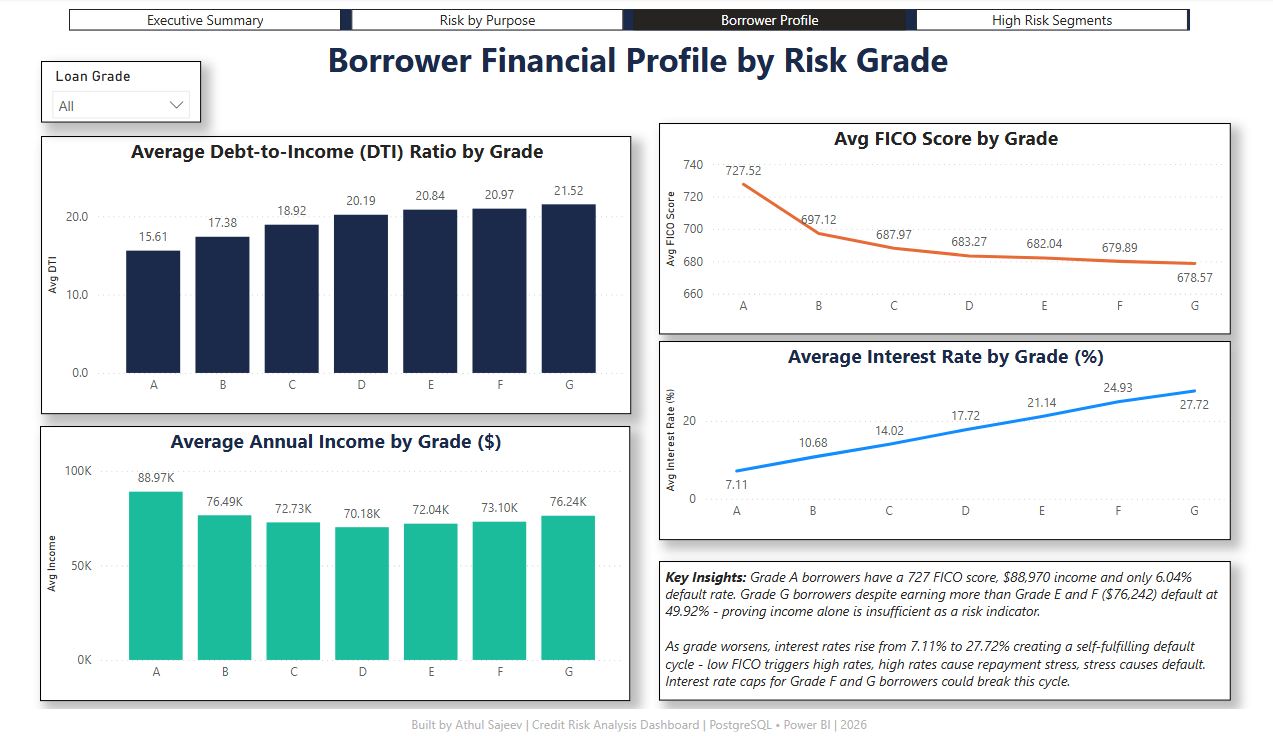

The dashboard page shown, as its layout file describes it:
{"tool":"powerbi","page":{"name":"Borrower Profile","canvas":[1280,720],"ordinal":2},"visuals":[{"type":"textbox","box":[331.7,32.1,616.7,69.1],"z":0},{"type":"clusteredColumnChart","title":"Average Debt-to-Income (DTI) Ratio by Grade","fields":{"Category":["query4_borrower_profile.grade"],"Y":["Sum(query4_borrower_profile.avg_dti)"]},"box":[57.5,134.4,574.7,270.8],"z":1000},{"type":"clusteredColumnChart","title":"Average Annual Income by Grade ($)","fields":{"Category":["query4_borrower_profile.grade"],"Y":["Sum(query4_borrower_profile.avg_income)"]},"box":[56.5,416.9,574.7,267.9],"z":2000},{"type":"lineChart","title":"Avg FICO Score by  Grade","fields":{"Category":["query4_borrower_profile.grade"],"Y":["Sum(query4_borrower_profile.avg_fico_score)"]},"box":[659.5,121.6,557.3,206.2],"z":3000},{"type":"lineChart","title":"Average Interest Rate by Grade (%)","fields":{"Category":["query4_borrower_profile.grade"],"Y":["Sum(query4_borrower_profile.avg_interest_rate)"]},"box":[659.5,334.6,557.3,193.6],"z":4000},{"type":"textbox","box":[659.5,548.4,557.2,136.4],"z":5000},{"type":"slicer","fields":{"Values":["query4_borrower_profile.grade"]},"box":[57.4,61.3,155.6,60.3],"z":6000},{"type":"pageNavigator","box":[84.6,10.7,1092.3,21.4],"z":7000},{"type":"textbox","box":[0,692.6,1280,27.3],"z":8000}]}

Visuals, with their boxes in screenshot pixels (x1, y1, x2, y2), scaled from the page's 1280x720 canvas onto the 1273x736 screenshot:
textbox: 330:33:943:103
"Average Debt-to-Income (DTI) Ratio by Grade" clusteredColumnChart: 57:137:629:414
"Average Annual Income by Grade ($)" clusteredColumnChart: 56:426:628:700
"Avg FICO Score by  Grade" lineChart: 656:124:1210:335
"Average Interest Rate by Grade (%)" lineChart: 656:342:1210:540
textbox: 656:561:1210:700
slicer - query4_borrower_profile.grade: 57:63:212:124
pageNavigator: 84:11:1170:33
textbox: 0:708:1272:735
